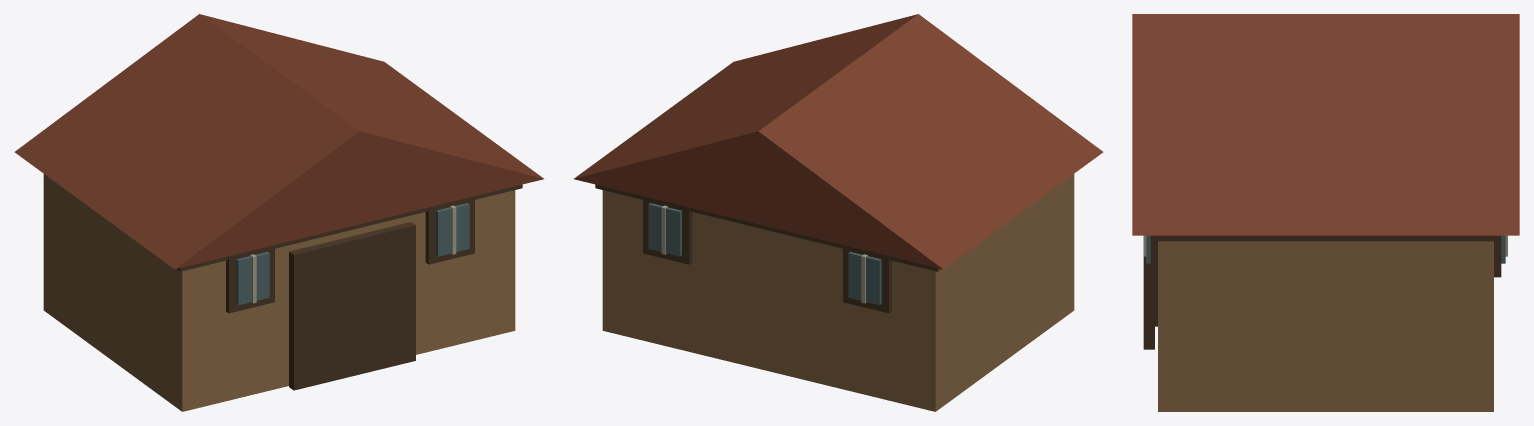
3 renders of one model, left to right at view 1: azimuth 30°, elevation 25°; view 2: azimuth 150°, elevation 25°; view 3: azimuth 270°, elevation 25°, orthographic. The views are drawn at different scales.
Parts seen in each view (by area): view 1: alpine-body; view 2: alpine-body; view 3: alpine-body.
Part boxes in pixels (left/top/right/bottom): alpine-body: left=14, top=14, right=543, bottom=411; alpine-body: left=574, top=14, right=1103, bottom=411; alpine-body: left=1132, top=14, right=1519, bottom=411.
Size of the model in its own units: 10 by 6.4 by 7.5.
